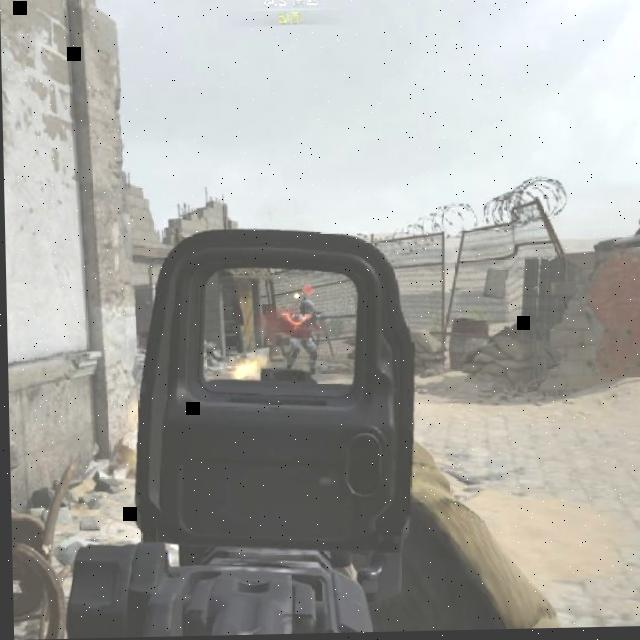MW2_body: (282, 286, 321, 375)
